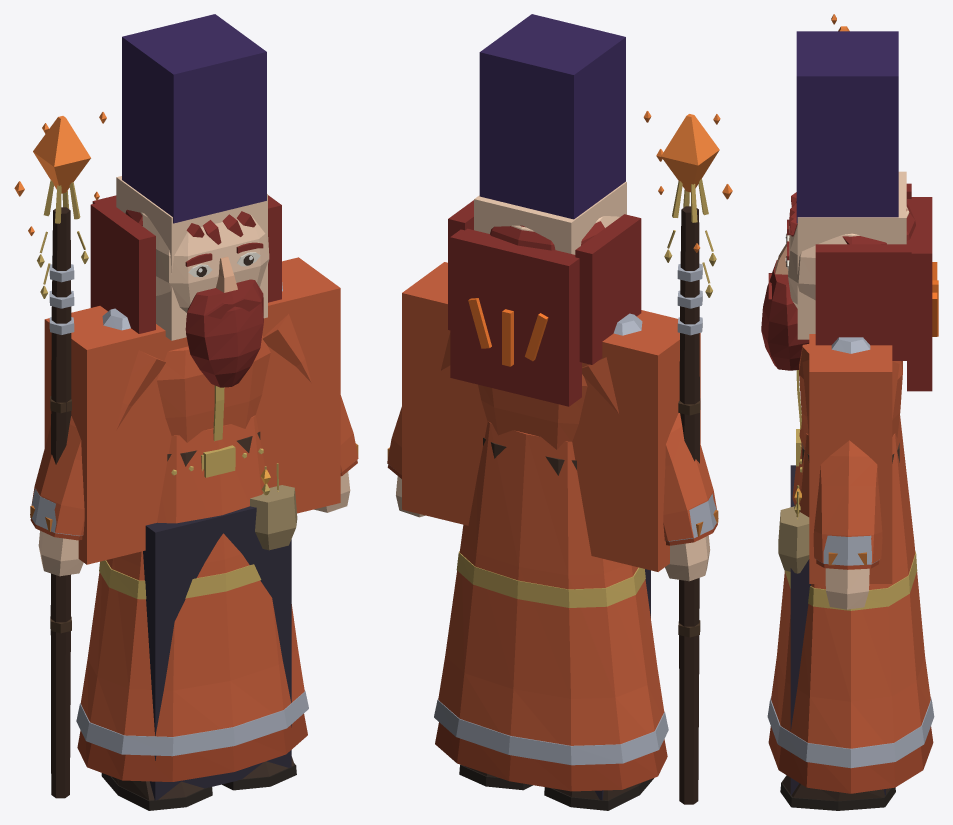
File: kadro-yalvac.obj
3 views of the same model, side by side, from view 1: azimuth 30°, elevation 25°; view 2: azimuth 150°, elevation 25°; view 3: azimuth 270°, elevation 25° (orthographic). The views are drawn at different scales.
Visible parts, largest first — view 1: ocakcan-uzak-govde, ocakcan-etek-destansi-efsanevi, ocakcan-uzak-baslik, ocakcan-uzak-bacak, yalvac-uzun-sac, ocakcan-asa-destansi-efsanevi, ocakcan-kollar, ocakcan-sakal-destansi-efsanevi, ocakcan-govde, ocakcan-etek-kaplamasi-destansi-efsanevi, ocakcan-kafa, ocakcan-etek-kenari-destansi-efsanevi (+12 smaller); view 2: ocakcan-etek-destansi-efsanevi, ocakcan-uzak-govde, ocakcan-uzak-baslik, yalvac-uzun-sac, ocakcan-asa-destansi-efsanevi, ocakcan-etek-kaplamasi-destansi-efsanevi, ocakcan-kollar, ocakcan-etek-kenari-destansi-efsanevi, ocakcan-uzak-kafa, ocakcan-govde, ocakcan-etek-nakis-destansi-efsanevi, ocakcan-asa-tasi-destansi-efsanevi (+7 smaller); view 3: ocakcan-etek-destansi-efsanevi, ocakcan-uzak-baslik, yalvac-uzun-sac, ocakcan-uzak-govde, ocakcan-kollar, ocakcan-etek-kaplamasi-destansi-efsanevi, ocakcan-uzak-kafa, ocakcan-etek-kenari-destansi-efsanevi, ocakcan-sakal-destansi-efsanevi, ocakcan-uzak-bacak, ocakcan-kese, ocakcan-kafa (+9 smaller).
Part boxes in pixels (x1,y1,x2,y2): ocakcan-uzak-govde: [44, 257, 340, 564]; ocakcan-etek-destansi-efsanevi: [80, 415, 304, 736]; ocakcan-uzak-baslik: [122, 14, 266, 223]; ocakcan-uzak-bacak: [143, 506, 291, 800]; yalvac-uzun-sac: [90, 195, 281, 333]; ocakcan-asa-destansi-efsanevi: [50, 207, 71, 798]; ocakcan-kollar: [30, 314, 358, 535]; ocakcan-sakal-destansi-efsanevi: [185, 279, 263, 387]; ocakcan-govde: [157, 335, 270, 442]; ocakcan-etek-kaplamasi-destansi-efsanevi: [77, 713, 307, 781]; ocakcan-kafa: [140, 212, 269, 312]; ocakcan-etek-kenari-destansi-efsanevi: [76, 690, 308, 756]; ocakcan-etek-destansi-efsanevi: [438, 421, 664, 745]; ocakcan-uzak-govde: [402, 262, 700, 571]; ocakcan-uzak-baslik: [479, 14, 625, 219]; yalvac-uzun-sac: [448, 200, 641, 406]; ocakcan-asa-destansi-efsanevi: [679, 206, 699, 804]; ocakcan-etek-kaplamasi-destansi-efsanevi: [435, 722, 667, 791]; ocakcan-kollar: [387, 333, 718, 541]; ocakcan-etek-kenari-destansi-efsanevi: [434, 698, 668, 765]; ocakcan-uzak-kafa: [474, 181, 626, 254]; ocakcan-govde: [478, 374, 587, 449]; ocakcan-etek-nakis-destansi-efsanevi: [456, 551, 645, 607]; ocakcan-asa-tasi-destansi-efsanevi: [661, 114, 719, 192]; ocakcan-etek-destansi-efsanevi: [771, 415, 930, 748]; ocakcan-uzak-baslik: [796, 31, 898, 223]; yalvac-uzun-sac: [815, 183, 932, 391]; ocakcan-uzak-govde: [809, 334, 892, 583]; ocakcan-kollar: [802, 360, 899, 563]; ocakcan-etek-kaplamasi-destansi-efsanevi: [768, 726, 933, 793]; ocakcan-uzak-kafa: [797, 171, 906, 339]; ocakcan-etek-kenari-destansi-efsanevi: [767, 696, 934, 768]; ocakcan-sakal-destansi-efsanevi: [761, 260, 809, 370]; ocakcan-uzak-bacak: [790, 465, 885, 795]; ocakcan-kese: [778, 506, 809, 573]; ocakcan-kafa: [788, 207, 909, 308].
Bounding box in the file's own units: 23.98 × 49.6 × 11.12.
